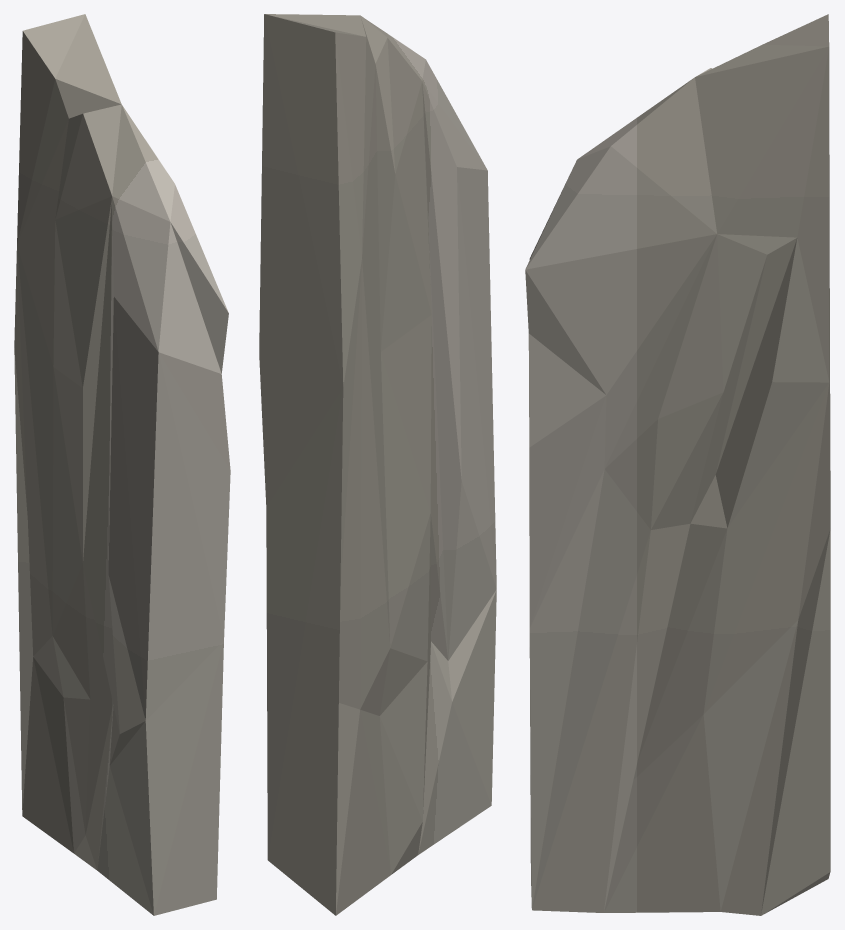
File: YN_RockPlate18.fbx
3 views of the same model, side by side, from view 1: azimuth 30°, elevation 25°; view 2: azimuth 150°, elevation 25°; view 3: azimuth 270°, elevation 25° (orthographic). The views are drawn at different scales.
Parts seen in each view (by area): view 1: RockPlate18; view 2: RockPlate18; view 3: RockPlate18.
Boxes of the visible parts, x1,y1,x2,y2 form: RockPlate18: (14, 14, 230, 915); RockPlate18: (259, 14, 496, 915); RockPlate18: (525, 14, 830, 915).
Bounding box in the file's own units: 0.7634 × 6.5 × 2.07.
